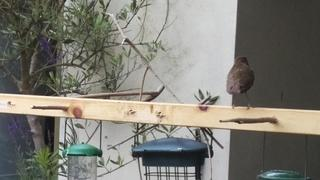robin: (226, 56, 255, 111)
